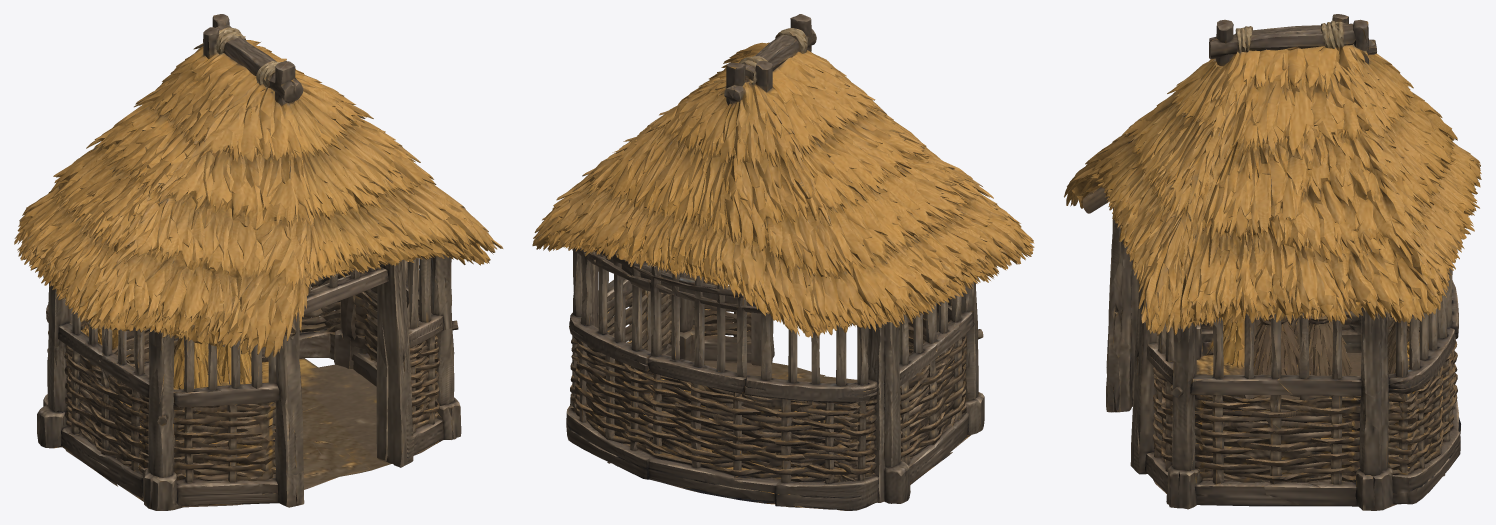
3 renders of one model, left to right at view 1: azimuth 30°, elevation 25°; view 2: azimuth 150°, elevation 25°; view 3: azimuth 270°, elevation 25°, orthographic. The views are drawn at different scales.
Size of the model in its own units: 1.9 by 1.75 by 1.63.
Materials: 1 (1 with a texture image).
